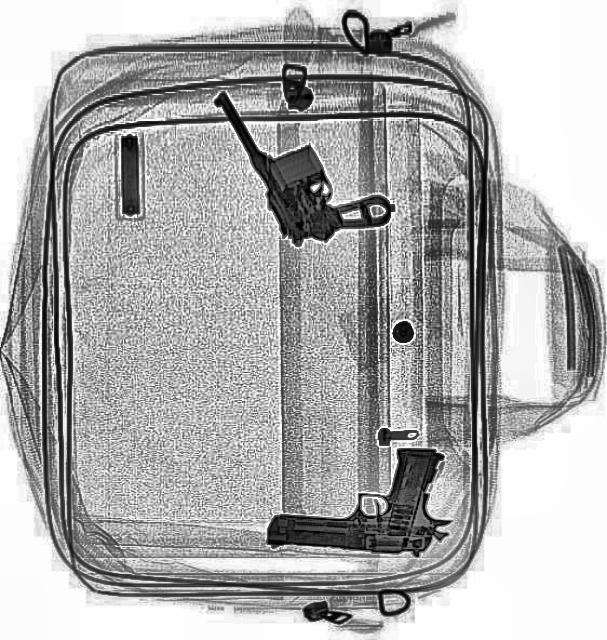Gun: (210, 48, 396, 262), (265, 442, 453, 558)
